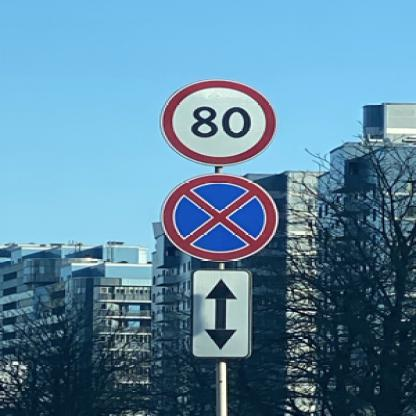speedlimit: (157, 78, 273, 165)
